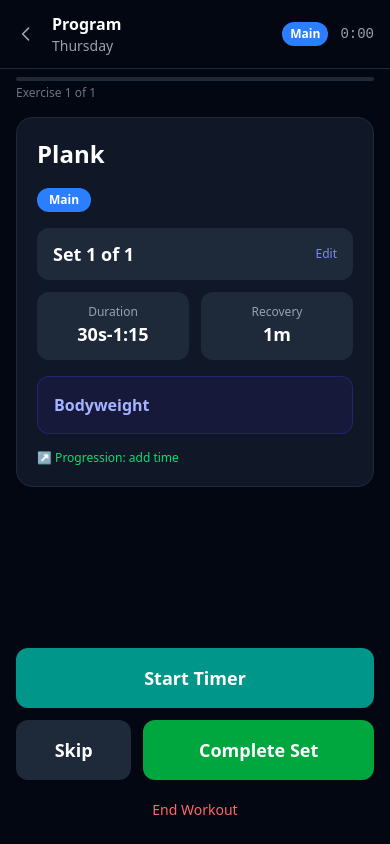
ActiveWorkout exercise timer › a timer that runs out fills in the time it ran for
Click the button "Start Timer" at {"x": 195, "y": 678}, box [16,648,374,708]
Wait 30000 ms
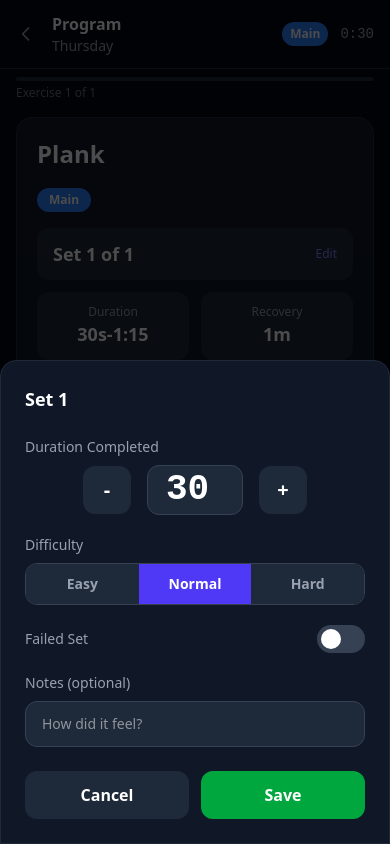
Now the number field labelled "Duration Completed" holds "30", box [147,465,243,515]
